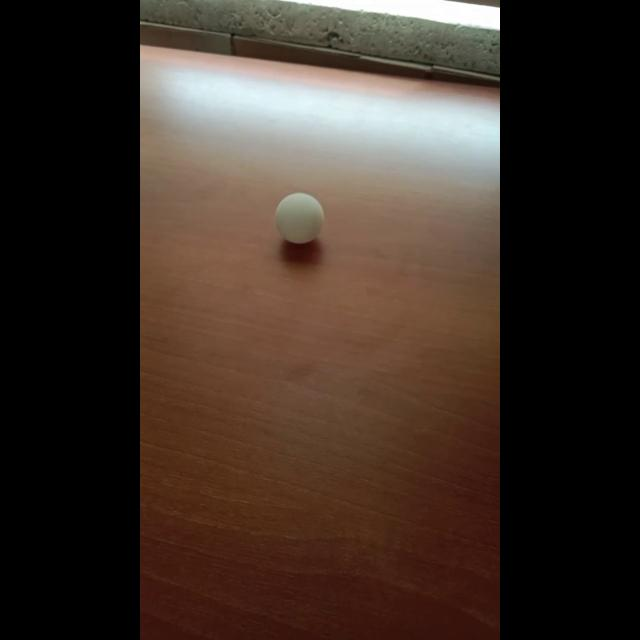white ball: (274, 192, 324, 244)
